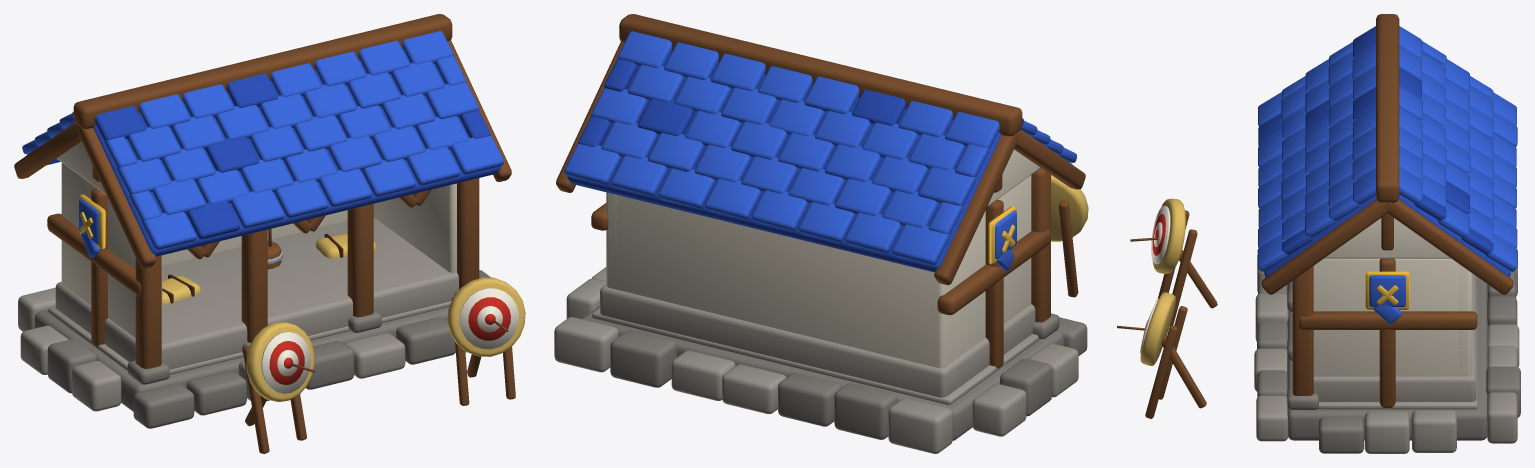
File: ArcheryRange.glb
3 views of the same model, side by side, from view 1: azimuth 30°, elevation 25°; view 2: azimuth 150°, elevation 25°; view 3: azimuth 270°, elevation 25° (orthographic). The views are drawn at different scales.
Visible parts, largest first — view 1: ArcheryRange; view 2: ArcheryRange; view 3: ArcheryRange.
Boxes of the visible parts, <box> form: ArcheryRange: <box>14,14,525,453</box>; ArcheryRange: <box>554,14,1088,453</box>; ArcheryRange: <box>1117,14,1520,453</box>.
Bounding box in the file's own units: 4.3 × 2.75 × 3.82.
